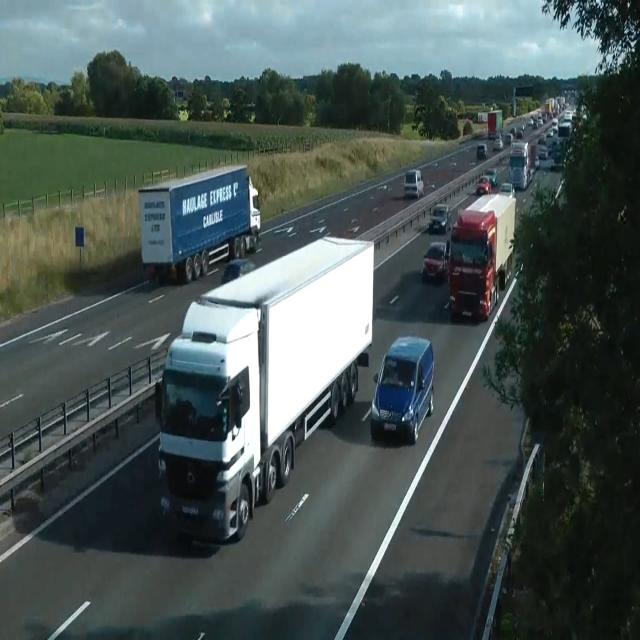bus: (220, 258, 256, 285), (428, 202, 452, 234), (476, 176, 492, 195), (483, 168, 497, 187), (499, 182, 515, 198), (477, 143, 488, 159), (493, 137, 503, 150), (534, 154, 540, 170), (506, 133, 512, 143)
jeep: (370, 334, 434, 444), (421, 240, 449, 283), (404, 168, 424, 199)
minibus: (154, 235, 374, 543), (137, 163, 261, 284), (447, 192, 517, 321), (508, 140, 538, 190), (488, 109, 502, 139)
